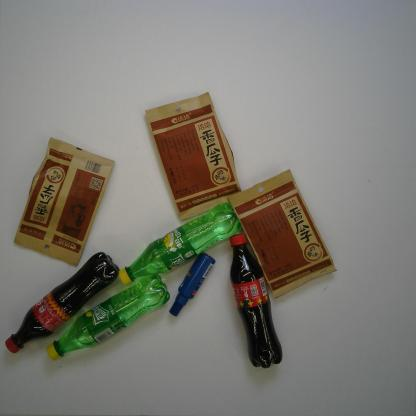Dried Food: (228, 168, 337, 299), (13, 136, 116, 268), (145, 91, 242, 221)
Drink: (4, 251, 120, 354), (46, 274, 171, 362), (118, 202, 244, 286), (229, 232, 283, 370)
Personal Hygiene: (168, 252, 216, 318)
